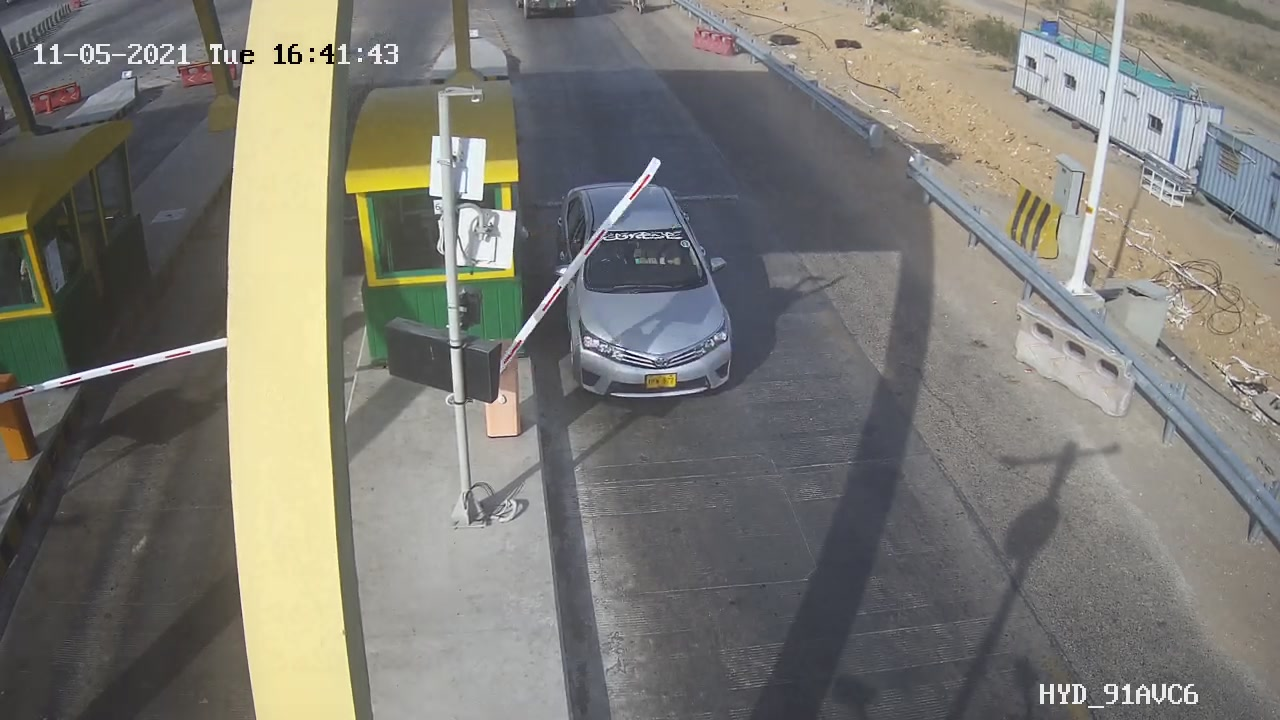F1: (533, 168, 757, 417)
